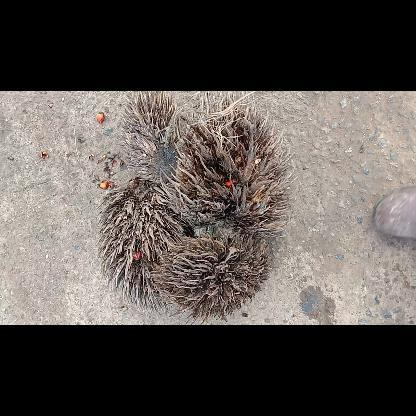Janjang kosong: (161, 91, 293, 237), (97, 179, 187, 313), (153, 230, 271, 320), (125, 91, 183, 183)
